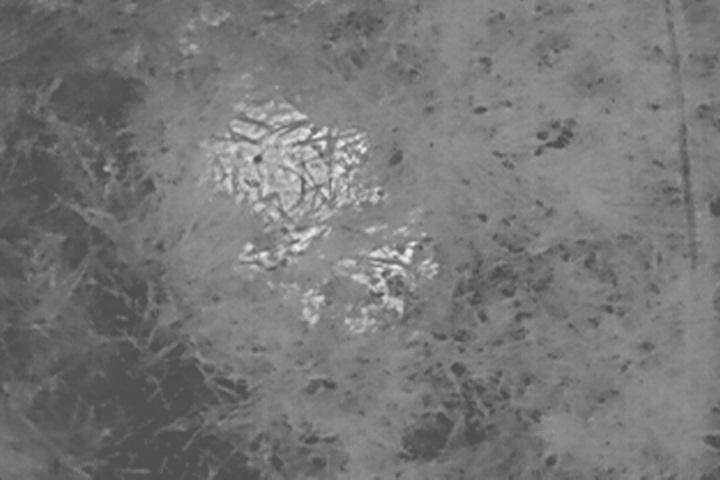landmine: (205, 101, 429, 319)
